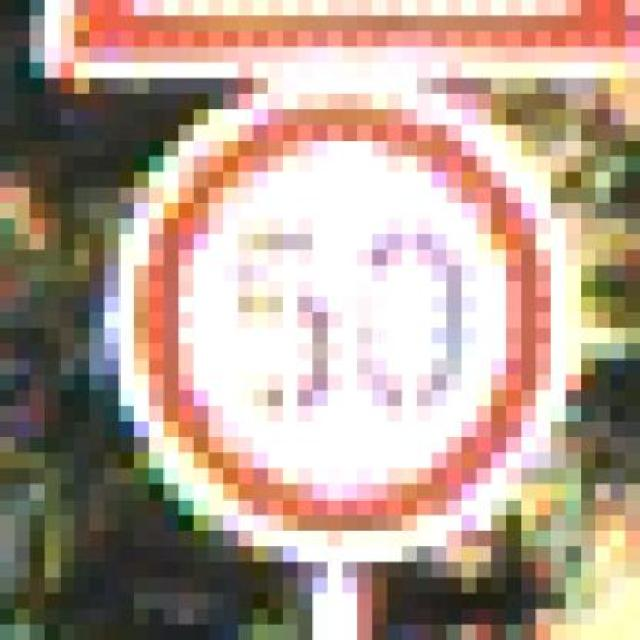Speed limit 50: (5, 1, 639, 639)
